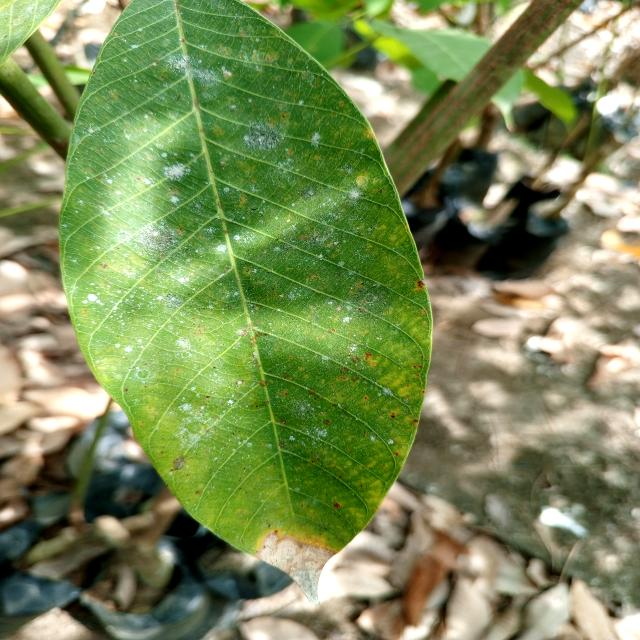Leaf-Blight: (256, 531, 337, 605)
